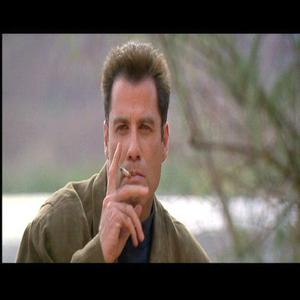cigarette: (119, 164, 133, 179)
